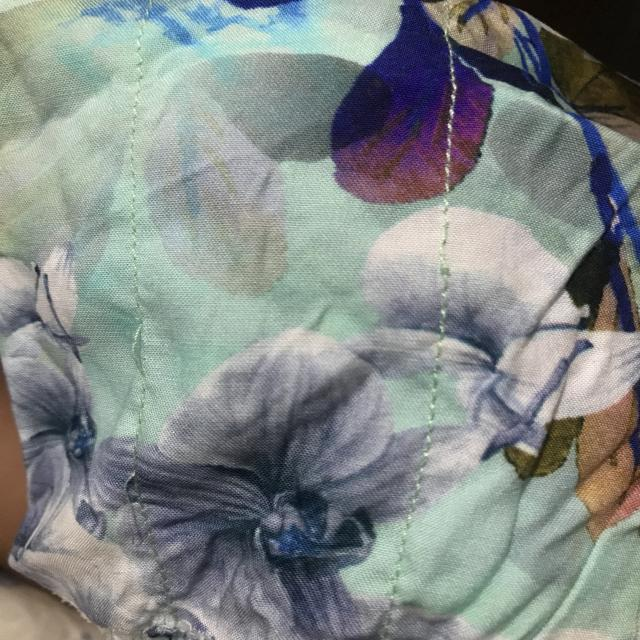skip: (112, 313, 154, 383)
